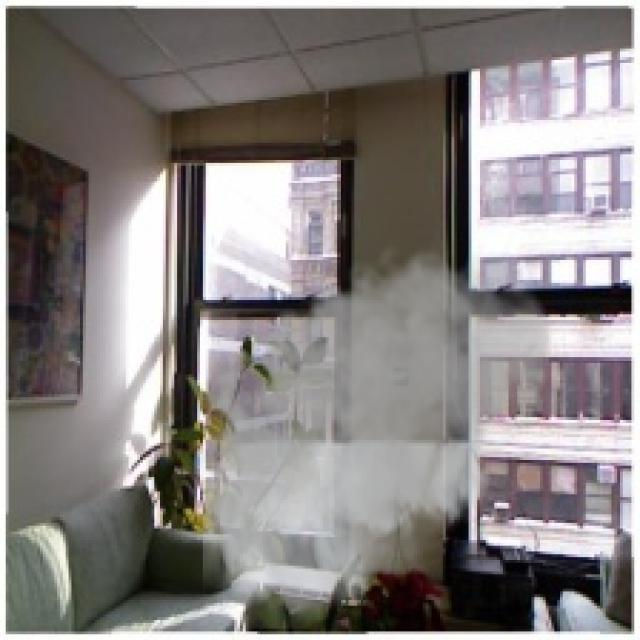Smoke: (188, 234, 560, 629)
